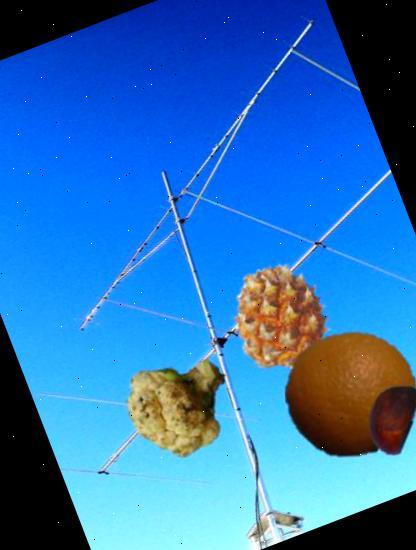Cauliflower: (108, 330, 249, 471)
Chestnut: (343, 368, 416, 465)
Orange: (265, 309, 416, 480)
Pineapple: (210, 246, 352, 386)
